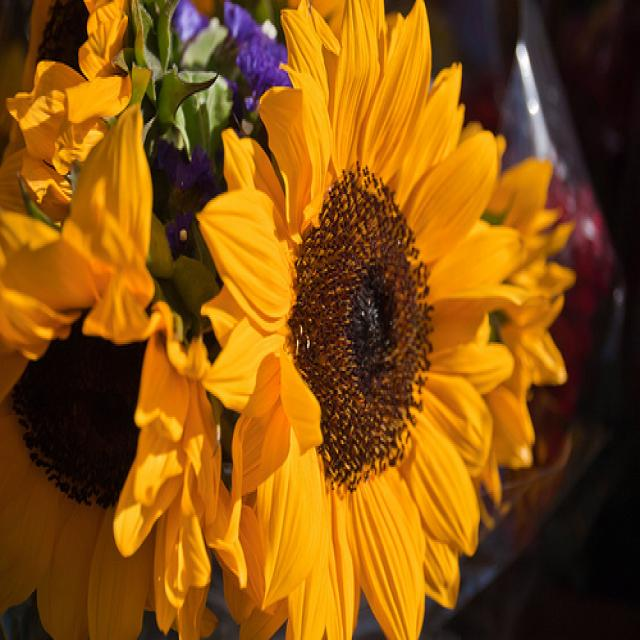sunflower: (202, 0, 545, 640), (0, 184, 220, 640)
